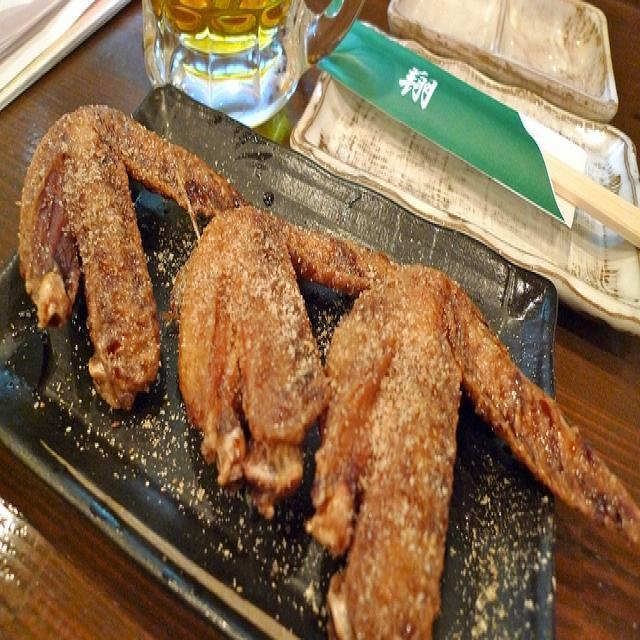Deep fried chicken wing: (34, 107, 587, 629)
